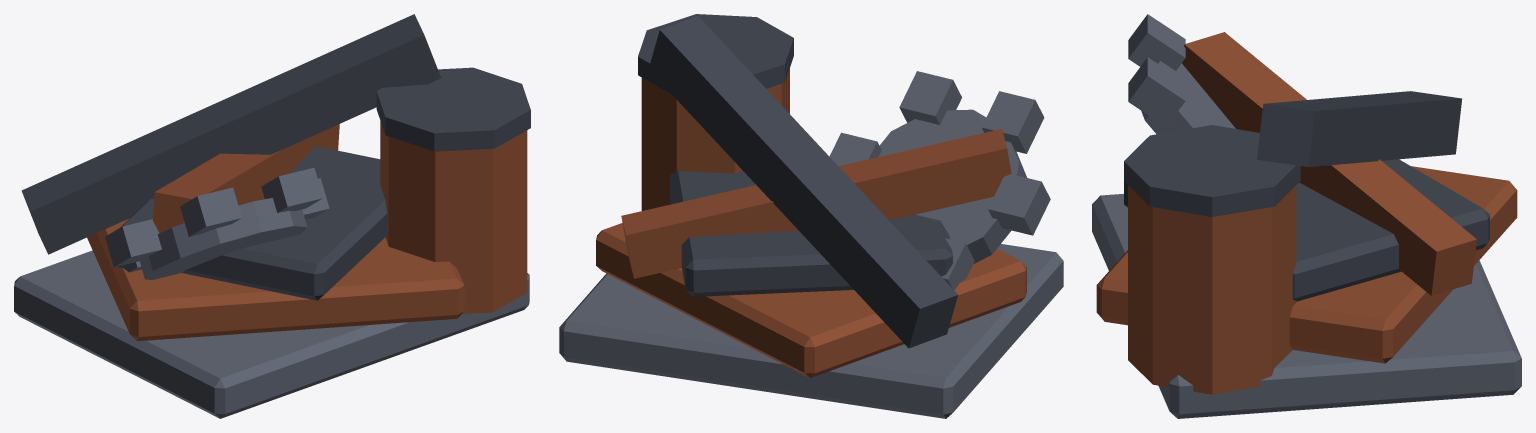
The model's file is env_r3_scrap_pile.glb.
3 renders of one model, left to right at view 1: azimuth 30°, elevation 25°; view 2: azimuth 150°, elevation 25°; view 3: azimuth 270°, elevation 25°, orthographic. The views are drawn at different scales.
Visible parts, largest first — view 1: env_r3_scrap_pile; view 2: env_r3_scrap_pile; view 3: env_r3_scrap_pile.
Part boxes in pixels (box(x1,y1,x2,y2)): env_r3_scrap_pile: box(14, 14, 530, 418); env_r3_scrap_pile: box(559, 14, 1063, 418); env_r3_scrap_pile: box(1092, 14, 1521, 418).
Size of the model in its own units: 2.6 by 1.6 by 2.2.
1 material, 1 textured.
